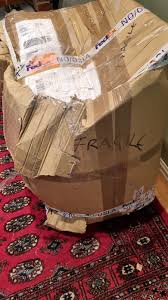damaged package: (3, 43, 167, 134), (36, 5, 146, 74), (17, 144, 163, 188), (43, 187, 161, 234)
